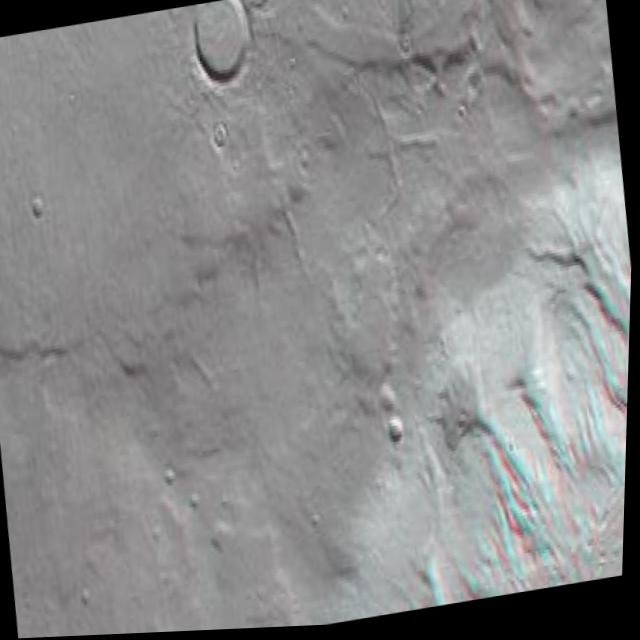Crater: (183, 0, 255, 93)
